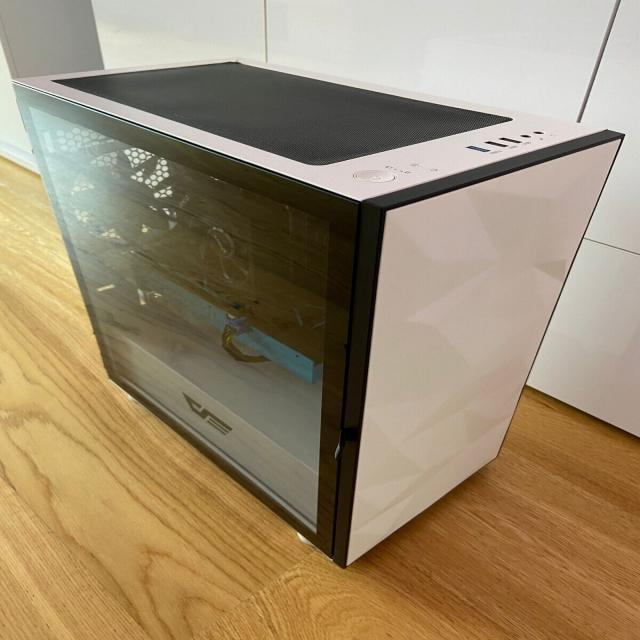Desktop-PC: (15, 54, 601, 590)
